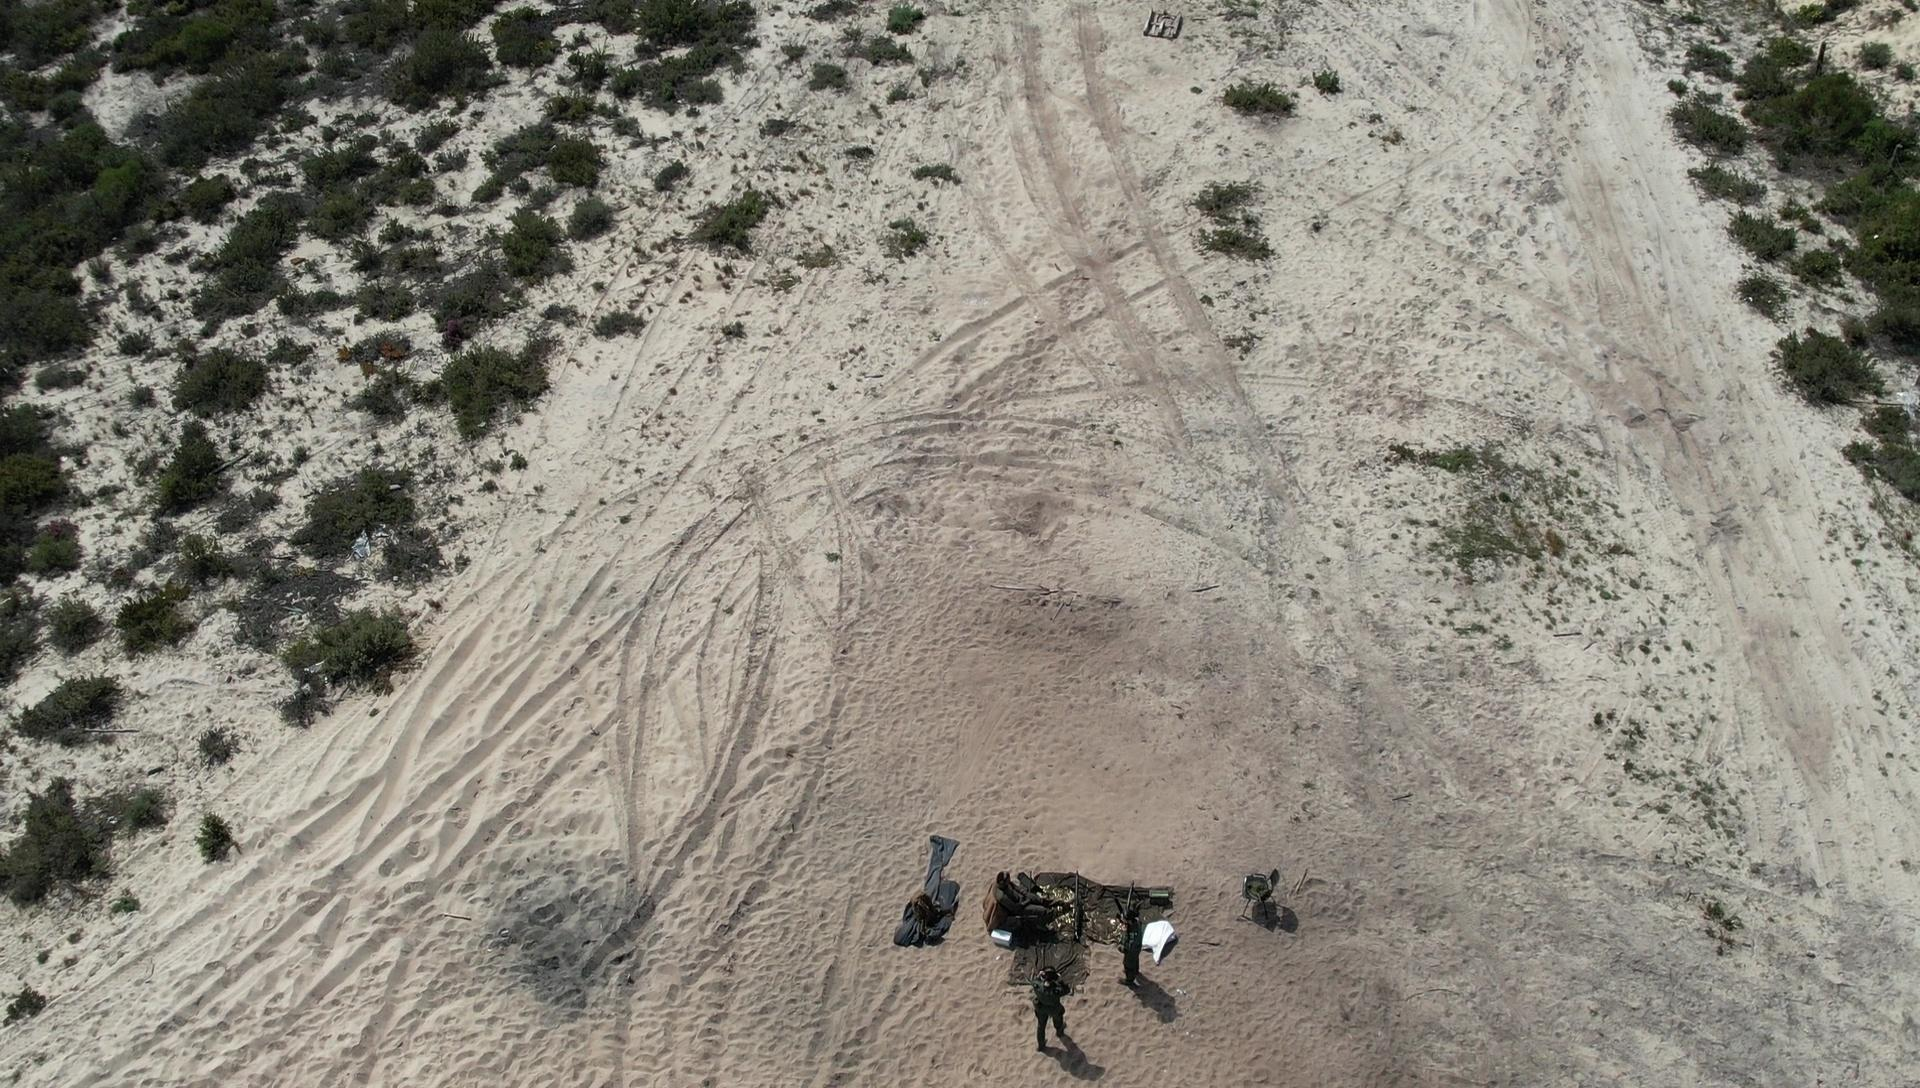Soldier: (980, 847, 1079, 951), (1014, 953, 1087, 1066), (1109, 892, 1160, 997)
